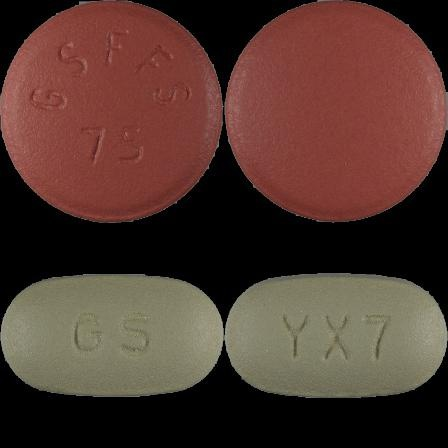0007-4642: (0, 0, 224, 224)
